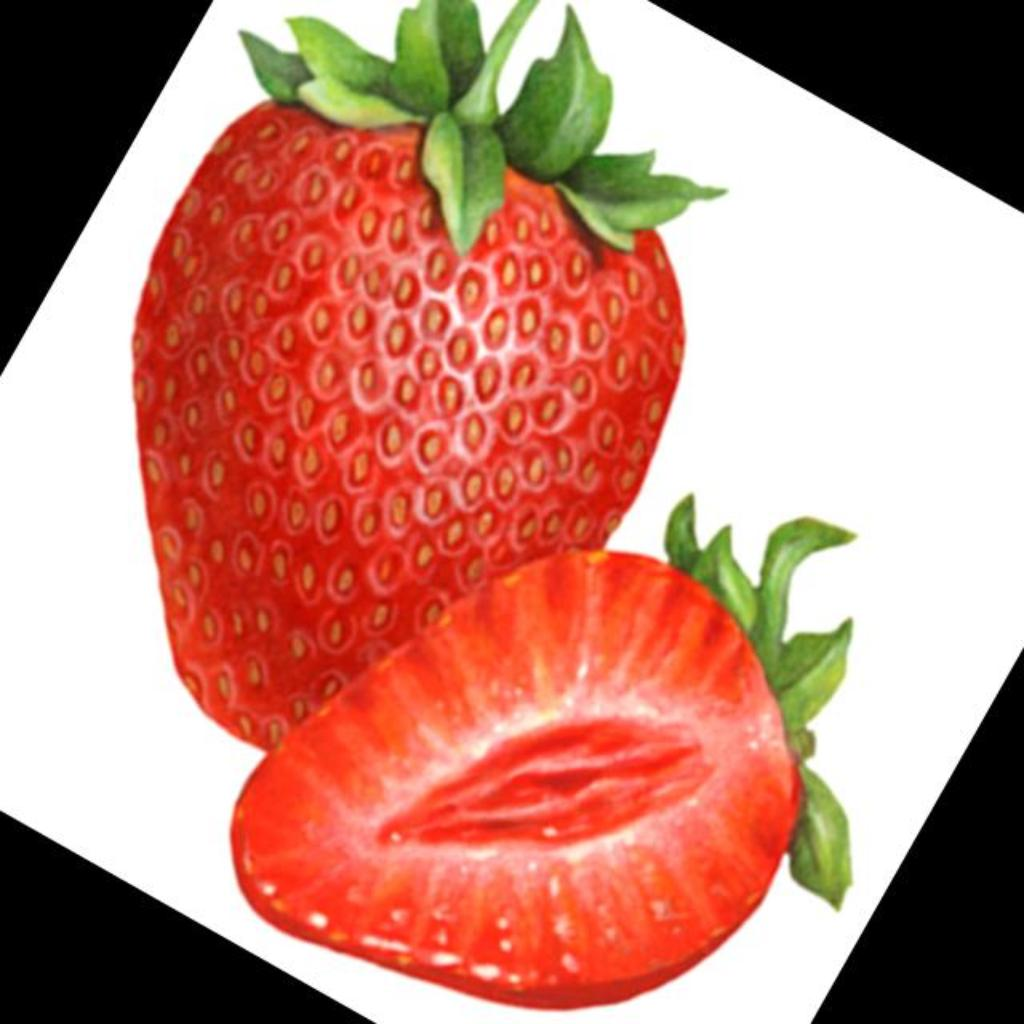strawberry: (134, 0, 722, 747), (232, 496, 852, 1007)
